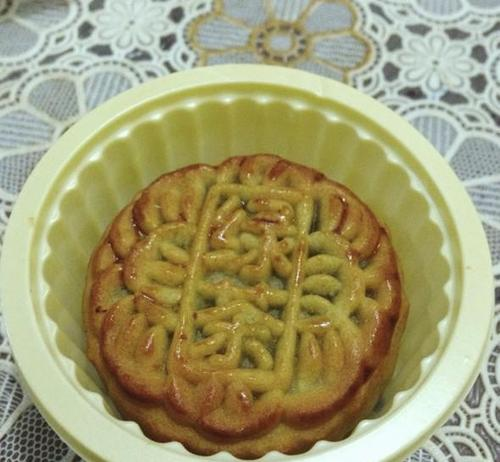MoonCake: (79, 152, 407, 462)
